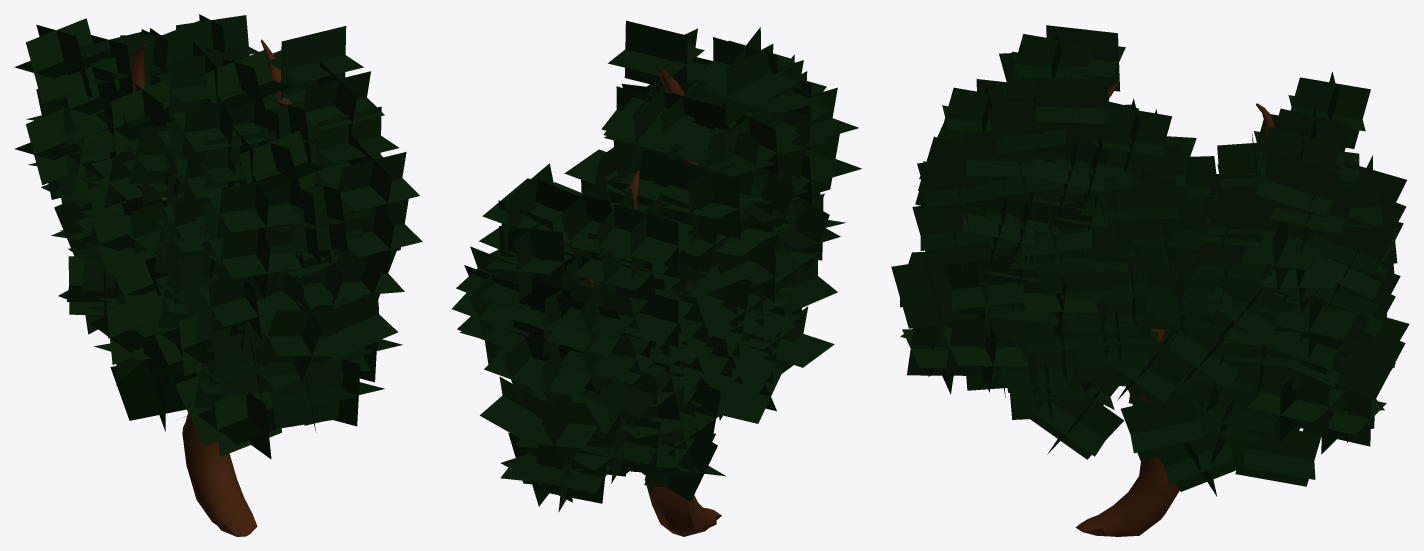
File: Frangipanier_1V5_low.fbx
3 views of the same model, side by side, from view 1: azimuth 30°, elevation 25°; view 2: azimuth 150°, elevation 25°; view 3: azimuth 270°, elevation 25° (orthographic). The views are drawn at different scales.
Visible parts, largest first — view 1: Trunk_low; view 2: Trunk_low; view 3: Trunk_low.
Part boxes in pixels (<box>): Trunk_low: <box>14,14,422,536</box>; Trunk_low: <box>452,20,861,536</box>; Trunk_low: <box>891,25,1409,536</box>.
Bounding box in the file's own units: 839 × 1788 × 1722.
